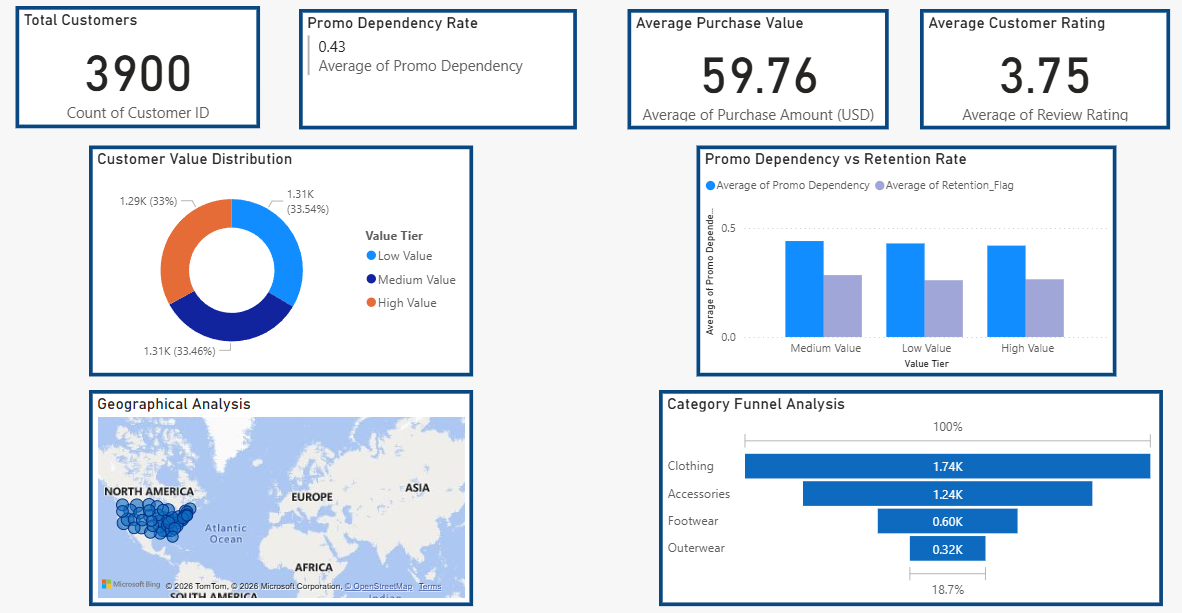

This screenshot's page, from the dashboard's own definition file:
{"tool":"powerbi","page":{"name":"Page 1","canvas":[1280,720],"ordinal":0},"visuals":[{"type":"textbox","box":[194,0,844,48],"z":0},{"type":"donutChart","title":"Customer Value Distribution","fields":{"Category":["sql_ready_dataset.Value Tier"],"Y":["CountNonNull(sql_ready_dataset.Customer ID)"]},"box":[97.2,212.1,414.5,249.4],"z":1000},{"type":"map","title":"Geographical Analysis","fields":{"Category":["sql_ready_dataset.Location"],"Size":["Sum(sql_ready_dataset.Customer Value Score)"]},"box":[97.2,476.1,414.5,233.2],"z":4000},{"type":"card","title":"Total Customers","fields":{"Values":["CountNonNull(sql_ready_dataset.Customer ID)"]},"box":[18,62,264,132],"z":6000},{"type":"card","title":"Average Purchase Value","fields":{"Values":["Avg(sql_ready_dataset.Purchase Amount (USD))"]},"box":[678,64,282,130],"z":7000},{"type":"multiRowCard","title":"Promo Dependency Rate","fields":{"Values":["Avg(sql_ready_dataset.Promo Dependency)"]},"box":[324,64,300,130],"z":8000},{"type":"card","title":"Average Customer Rating","fields":{"Values":["Avg(sql_ready_dataset.Review Rating)"]},"box":[994,64,270,130],"z":9000},{"type":"clusteredColumnChart","title":"Promo Dependency vs Retention Rate","fields":{"Category":["sql_ready_dataset.Value Tier"],"Y":["Avg(sql_ready_dataset.Promo Dependency)","Avg(sql_ready_dataset.Retention_Flag)"]},"box":[752.9,212.1,453.4,249.4],"z":9001},{"type":"funnel","title":"Category Funnel Analysis","fields":{"Category":["sql_ready_dataset.Category"],"Y":["CountNonNull(sql_ready_dataset.Customer ID)"]},"box":[712.5,476.1,544.1,233.2],"z":9002}]}

Visuals, with their boxes in screenshot pixels (x1, y1, x2, y2):
textbox: [x1=178, y1=0, x2=939, y2=3]
"Customer Value Distribution" donutChart: [x1=91, y1=151, x2=465, y2=376]
"Geographical Analysis" map: [x1=91, y1=389, x2=465, y2=600]
"Total Customers" card: [x1=19, y1=16, x2=257, y2=135]
"Average Purchase Value" card: [x1=615, y1=18, x2=869, y2=135]
"Promo Dependency Rate" multiRowCard: [x1=295, y1=18, x2=566, y2=135]
"Average Customer Rating" card: [x1=899, y1=18, x2=1143, y2=135]
"Promo Dependency vs Retention Rate" clusteredColumnChart: [x1=682, y1=151, x2=1091, y2=376]
"Category Funnel Analysis" funnel: [x1=646, y1=389, x2=1136, y2=600]
